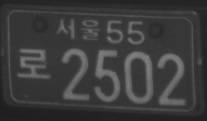0: (122, 49, 154, 105)
2: (156, 51, 187, 107), (60, 46, 90, 101)
5: (92, 47, 121, 104), (104, 18, 125, 44), (125, 19, 145, 46)
로: (15, 46, 52, 80)
서울_O: (54, 15, 101, 41)
